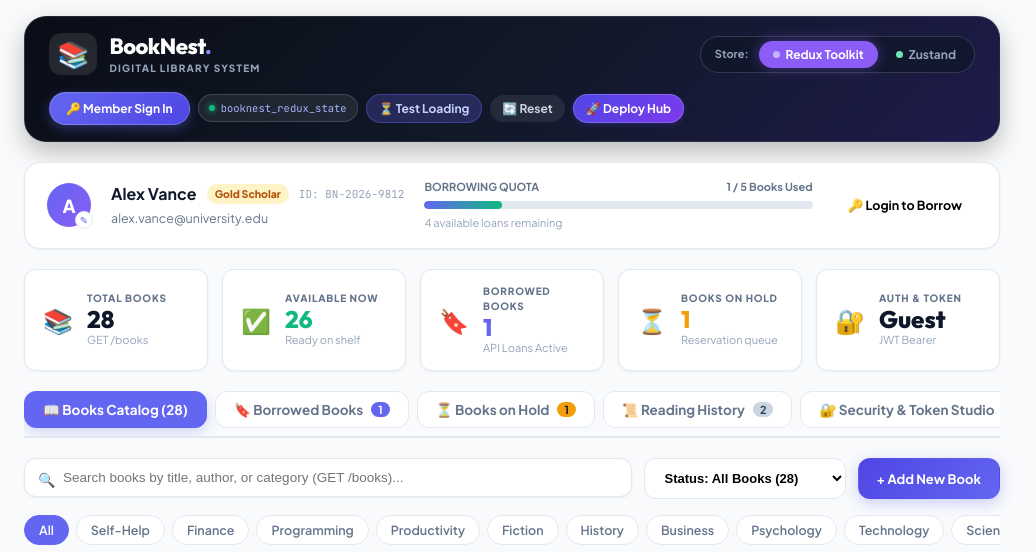
Scenario: Experiment 1: Borrowing, Member Profile, Loading & Error States › c) navigates between Borrowed Books, Holds, and Reading History tabs
The image size is (1036, 552).
# Switch to Borrowed Books tab
Click the tab "🔖 Borrowed Books 1" at x=312, y=410, box [215,391,409,428]
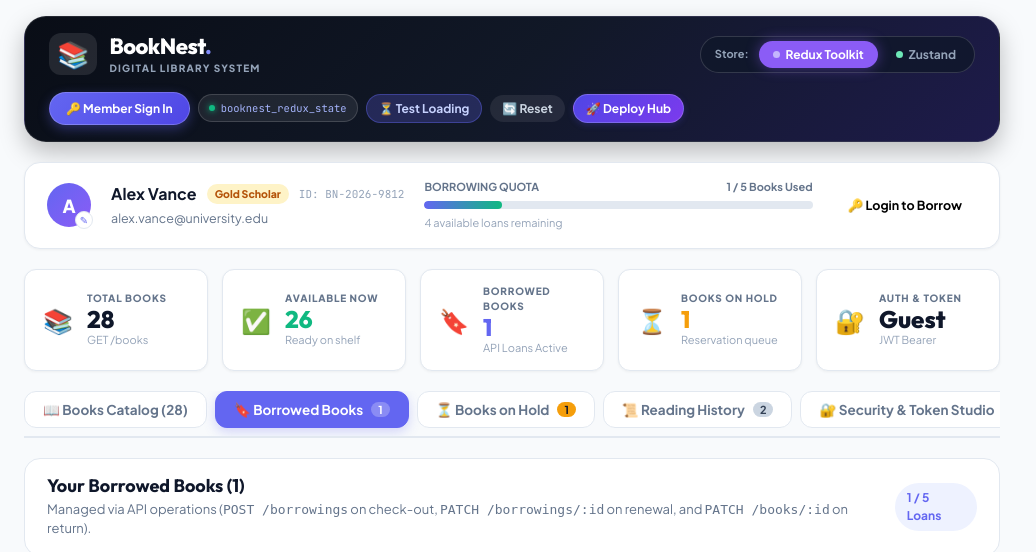
Expected: the heading "Your Borrowed Books (1)" is shown, [47,474,245,497]
# Switch to Books on Hold tab
Click the tab "⏳ Books on Hold 1" at x=506, y=410, box [417,391,595,428]
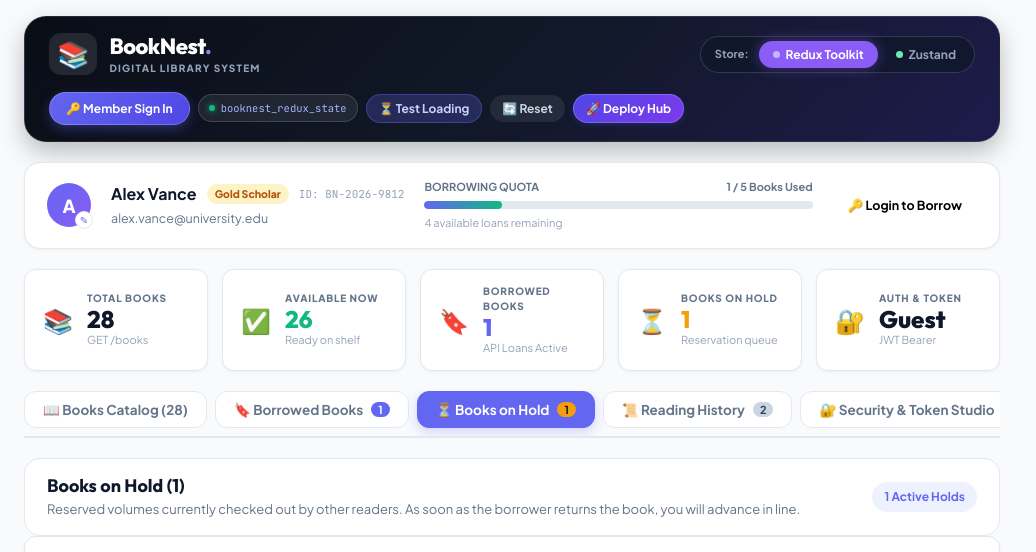
Expected: the heading "Books on Hold (1)" is shown, [47,474,185,497]
# Switch to Reading History tab
Click the tab "📜 Reading History 2" at x=698, y=410, box [603,391,792,428]
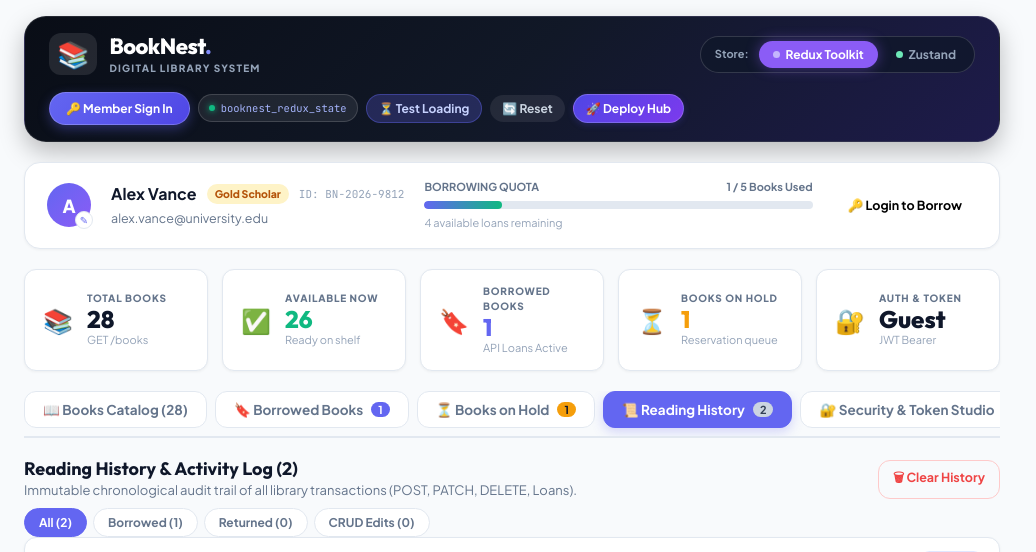
Expected: the heading "Reading History & Activity Log (2)" is shown, [24,457,298,480]
